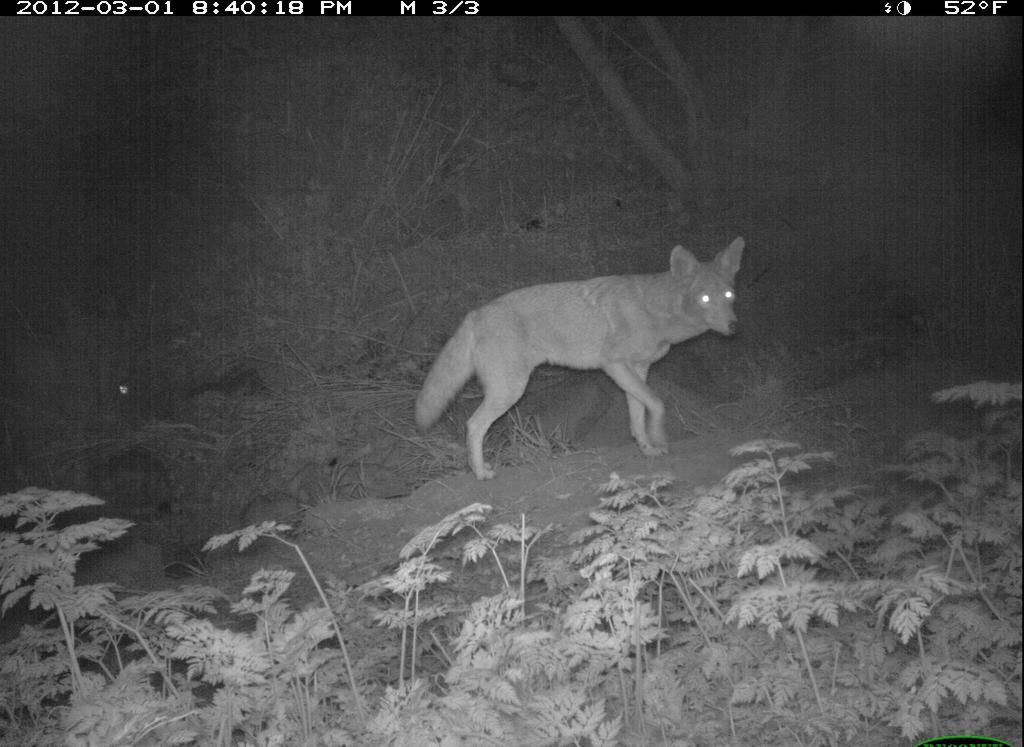coyote: (411, 239, 751, 484)
